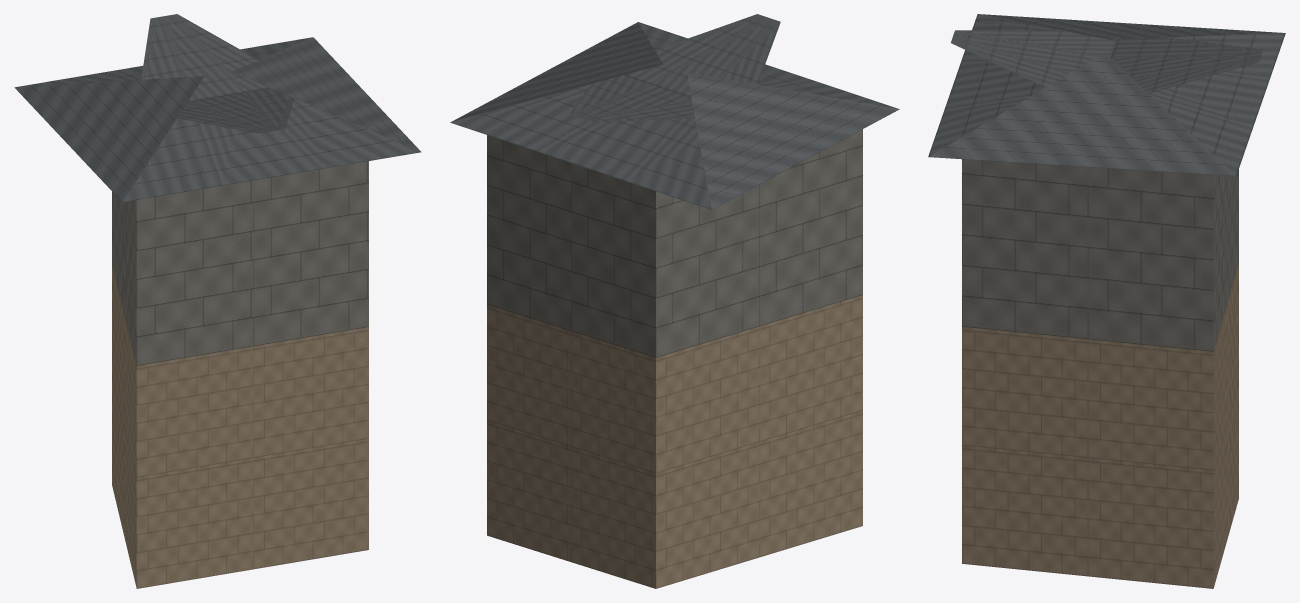
The model's file is bld_c-10_15_626.gltf.
3 views of the same model, side by side, from view 1: azimuth 30°, elevation 25°; view 2: azimuth 150°, elevation 25°; view 3: azimuth 270°, elevation 25° (orthographic). The views are drawn at different scales.
Parts seen in each view (by area): view 1: bld_c-10_15_626; view 2: bld_c-10_15_626; view 3: bld_c-10_15_626.
Part boxes in pixels (x1,y1,x2,y2): bld_c-10_15_626: [14, 14, 421, 588]; bld_c-10_15_626: [450, 14, 899, 588]; bld_c-10_15_626: [928, 14, 1285, 588].
Size of the model in its own units: 7.11 by 9.7 by 6.63.
3 materials, 3 textured.
